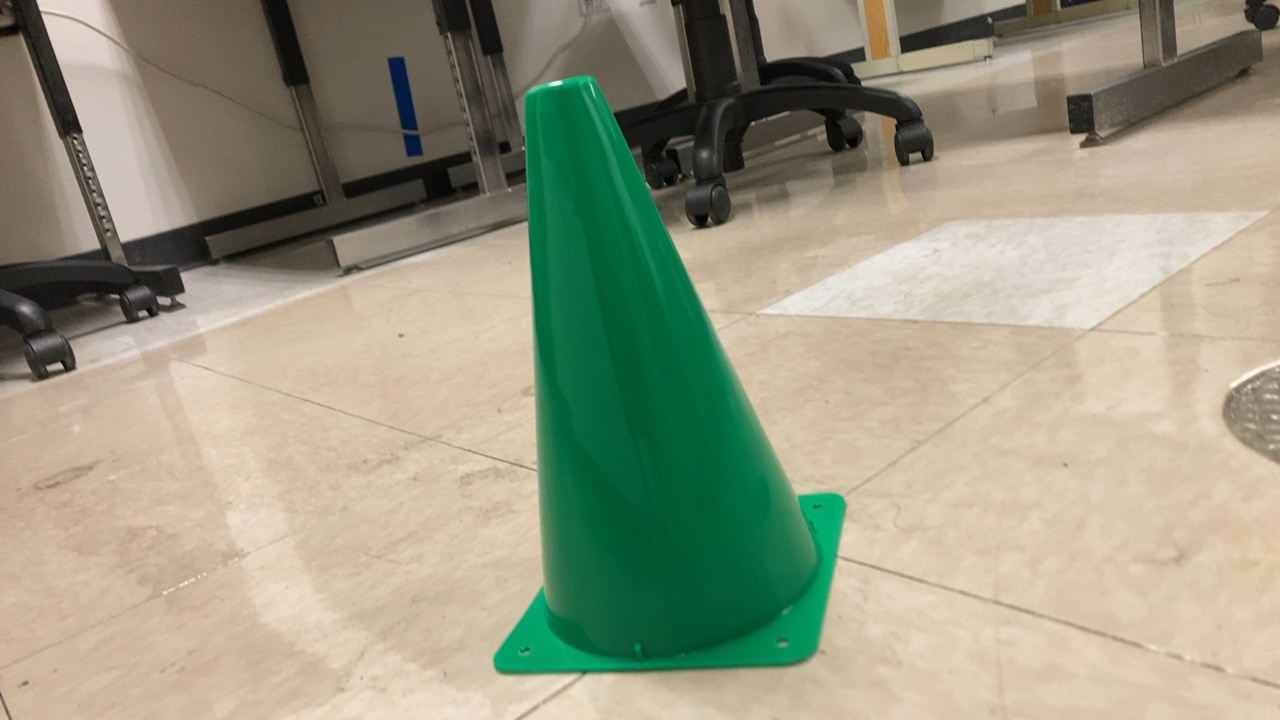green_cone: (486, 62, 850, 682)
